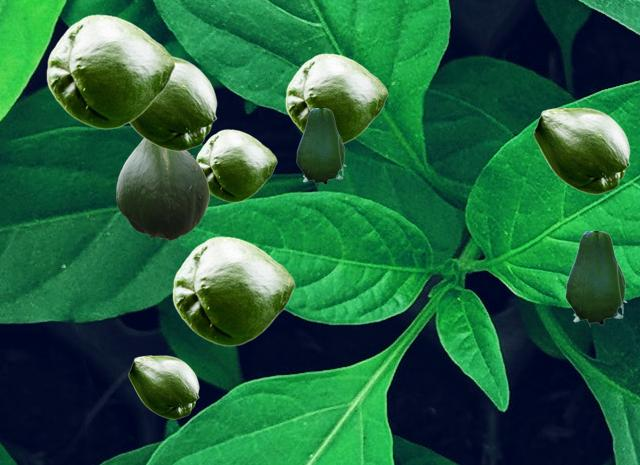sayote: (46, 14, 174, 128), (172, 236, 294, 345), (116, 139, 208, 240), (285, 53, 387, 143), (533, 107, 629, 193), (129, 56, 216, 150), (195, 129, 276, 201), (565, 231, 626, 326), (128, 355, 198, 418), (296, 108, 345, 185)
